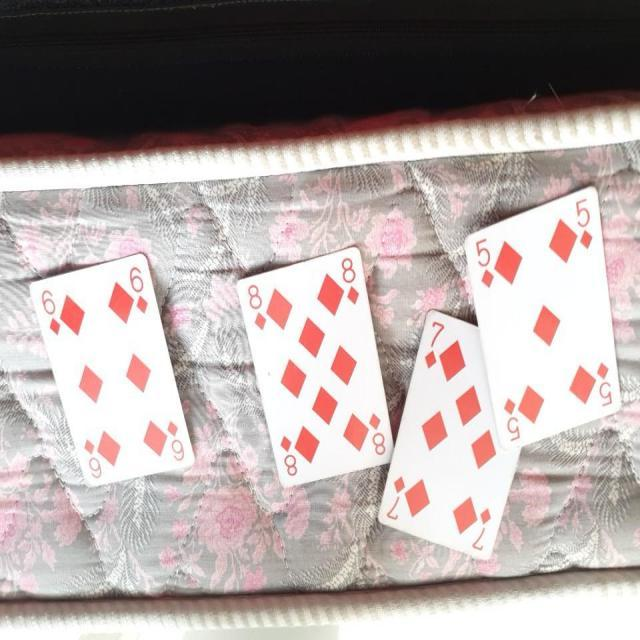5 of diamonds: (466, 184, 624, 450)
6 of diamonds: (30, 253, 196, 487)
7 of diamonds: (379, 308, 524, 561)
8 of diamonds: (235, 242, 394, 490)
